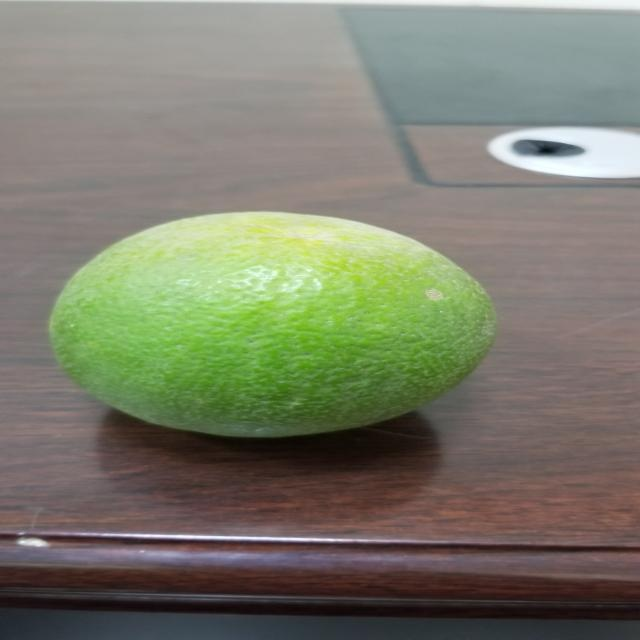agrume: (49, 197, 509, 444)
